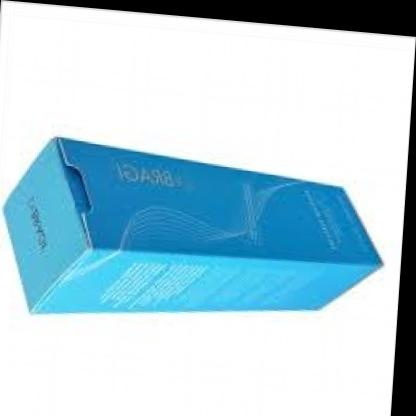trash: (4, 138, 380, 312)
